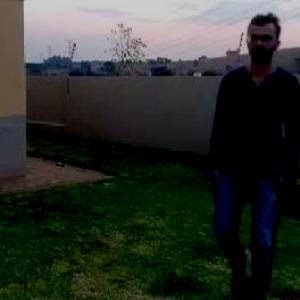follow: (198, 8, 284, 299)
